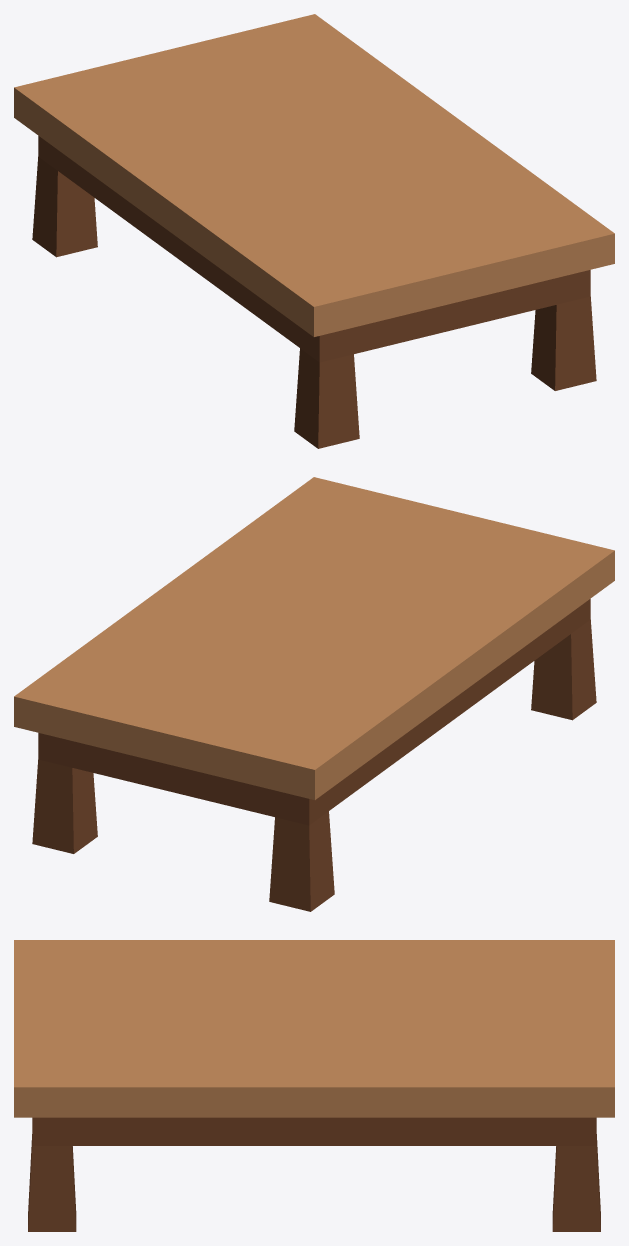
The model's file is CoffeeTable.glb.
3 views of the same model, one above another, from view 1: azimuth 30°, elevation 25°; view 2: azimuth 150°, elevation 25°; view 3: azimuth 270°, elevation 25° (orthographic).
Size of the model in its own units: 0.5889 by 0.2802 by 1.02.
